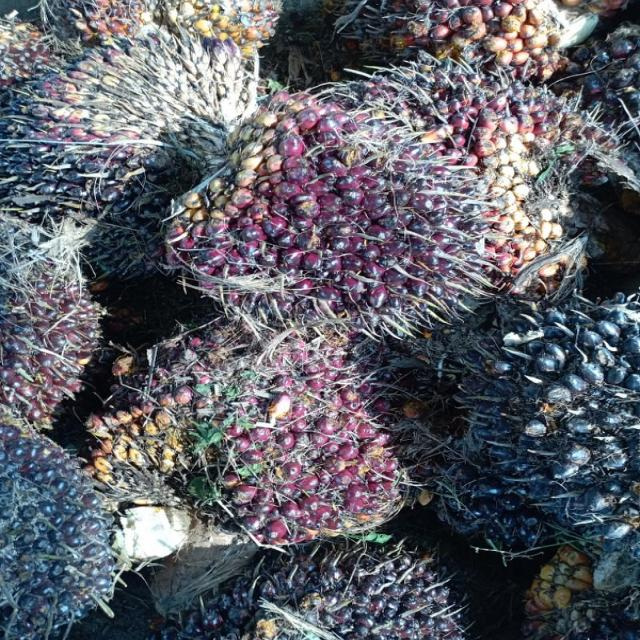fraksi 00: (449, 285, 640, 556), (0, 6, 241, 203), (0, 399, 148, 640)
fraksi 1: (184, 87, 512, 321), (105, 310, 415, 548)
